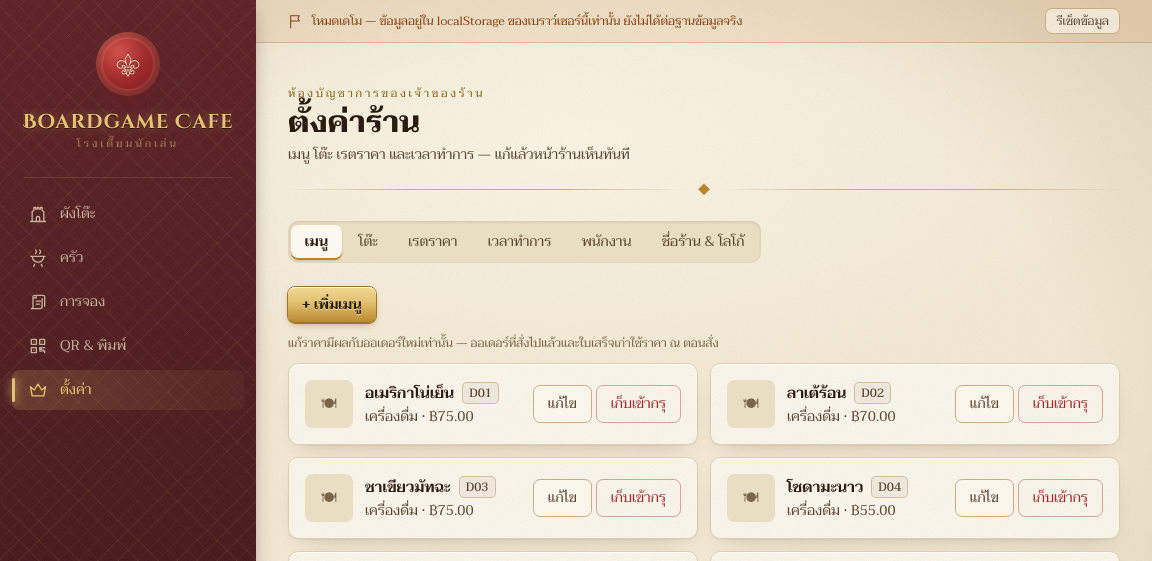
Test: หน้าตั้งค่าร้าน › แท็บเวลาทำการแสดงครบ 7 วัน
Click the button "เวลาทำการ". click: (520, 242)
box: [474, 225, 565, 260]
(page scrolled)
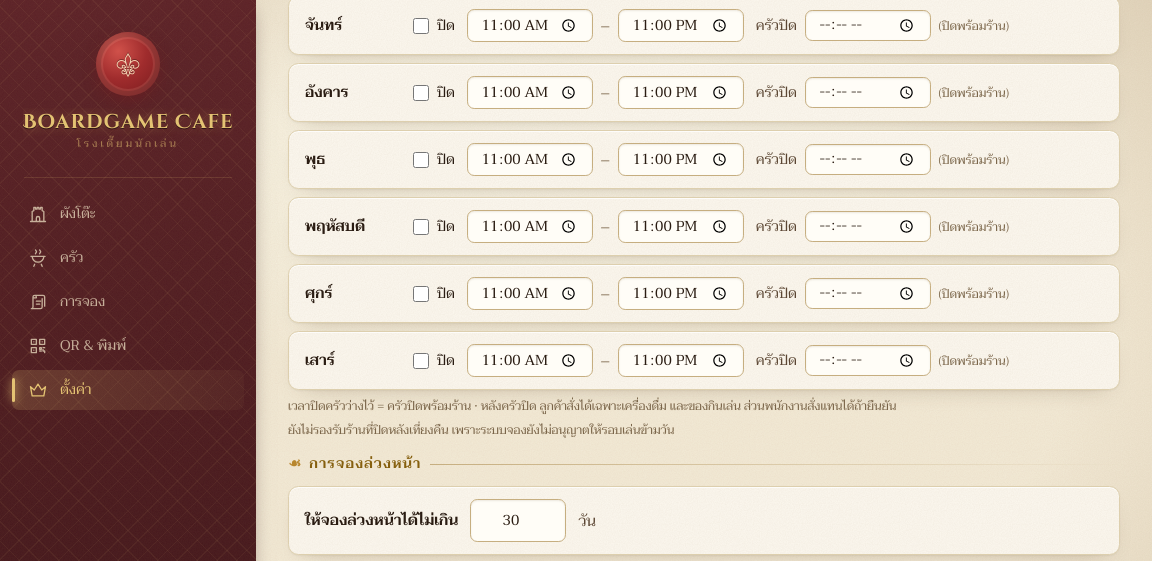
Now the text "จันทร์" is shown, box [305, 14, 342, 36]
Now the text "เสาร์" is shown, box [305, 350, 335, 371]
